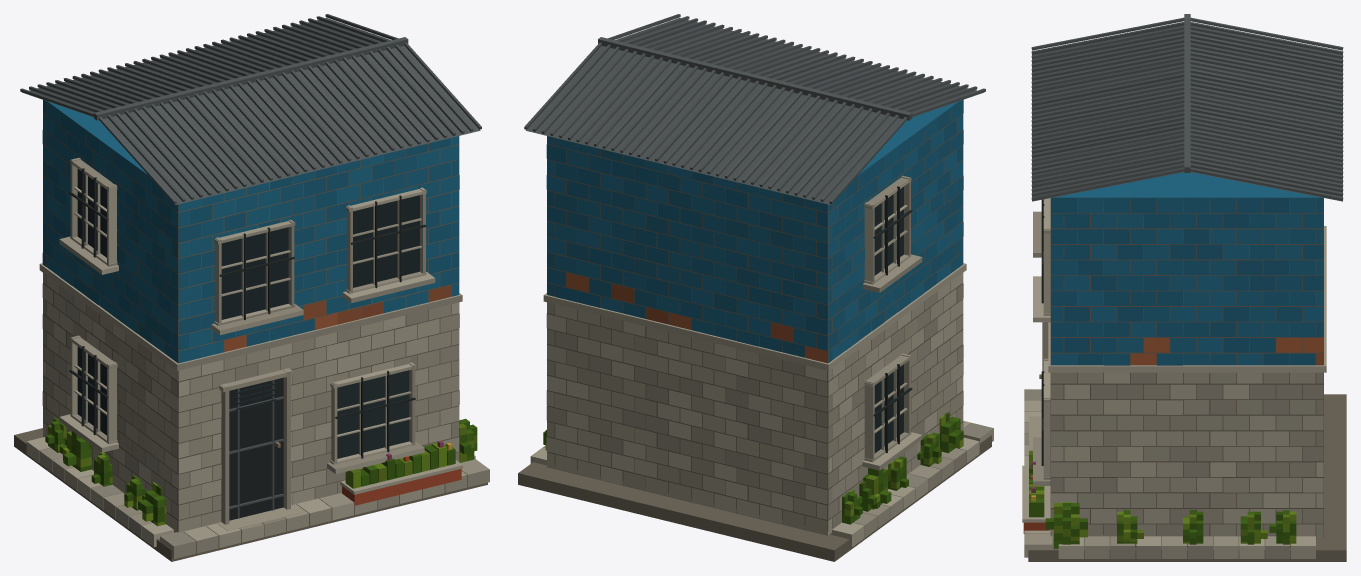
Rendered from SM_Mapa_076.fbx.
The picture shows the model from 3 angles, left to right: view 1: azimuth 30°, elevation 25°; view 2: azimuth 150°, elevation 25°; view 3: azimuth 270°, elevation 25°; orthographic projection.
Visible parts, largest first — view 1: SM_Mapa_076; view 2: SM_Mapa_076; view 3: SM_Mapa_076.
Boxes of the visible parts, box(x1,y1,x2,y2) form: SM_Mapa_076: box(14, 14, 489, 561); SM_Mapa_076: box(518, 14, 993, 561); SM_Mapa_076: box(1022, 14, 1346, 561).
Size of the model in its own units: 8 by 6.84 by 9.16.
